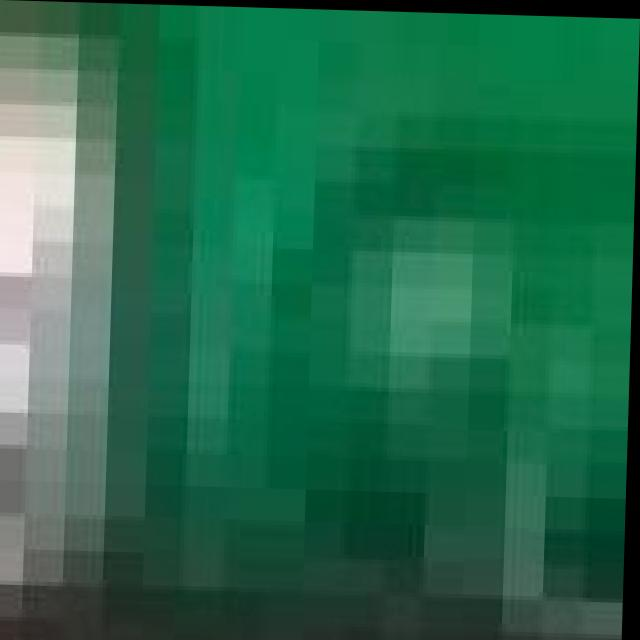transistor: (0, 248, 634, 640)
